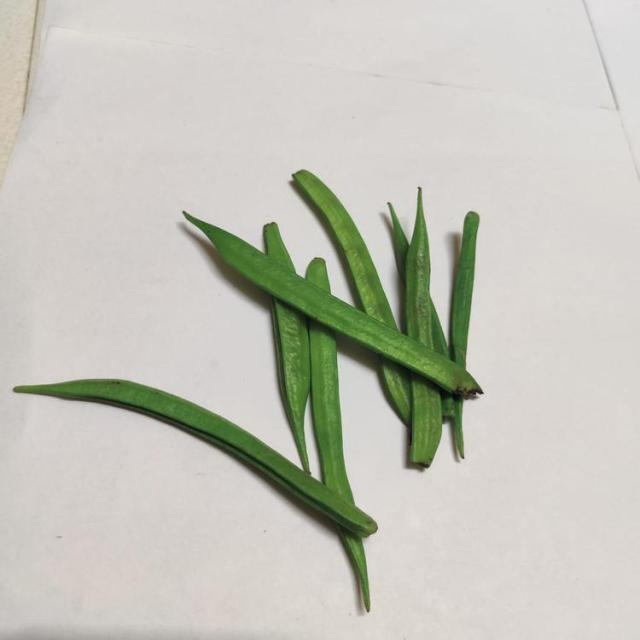Organik: (295, 166, 480, 532), (187, 209, 482, 394), (265, 225, 375, 530), (25, 379, 315, 488)
